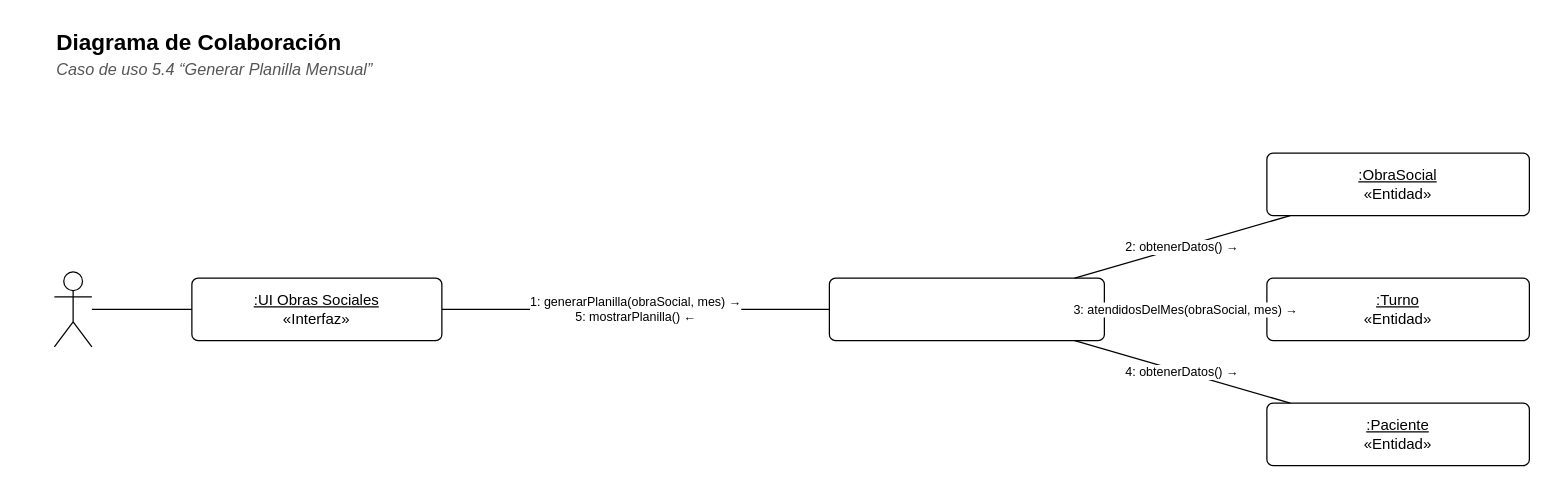
Some shapes in this 1551 by 488 pixel diagram are drawn without their labels. Each missing label, with the centre of its shape:
":GestorObrasSociales «Control»" belongs at [966,309].
"Administrador" belongs at [72,309].
